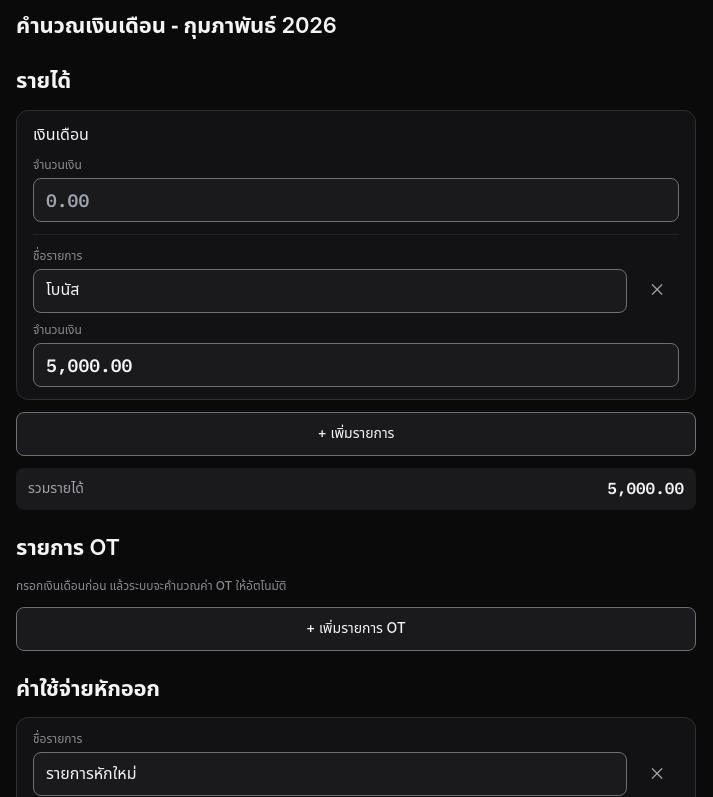
Test: SalaryCalculator — รายการ OT (Increment 3) › AC-OT-02/03: identical hours in February (28 days) give 1,875 — fixed 30-day divisor, same as any other month
Type "30000" into the field named "จำนวนเงินเงินเดือน" at (356, 200), box [33,178,679,222]
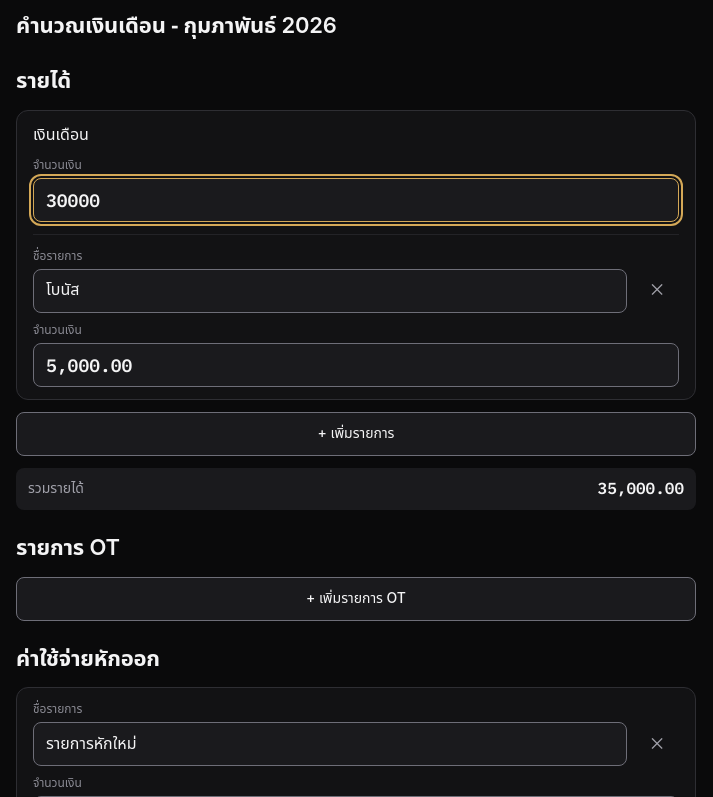
Click the button "+ เพิ่มรายการ OT" at (356, 599), box [16,577,696,621]
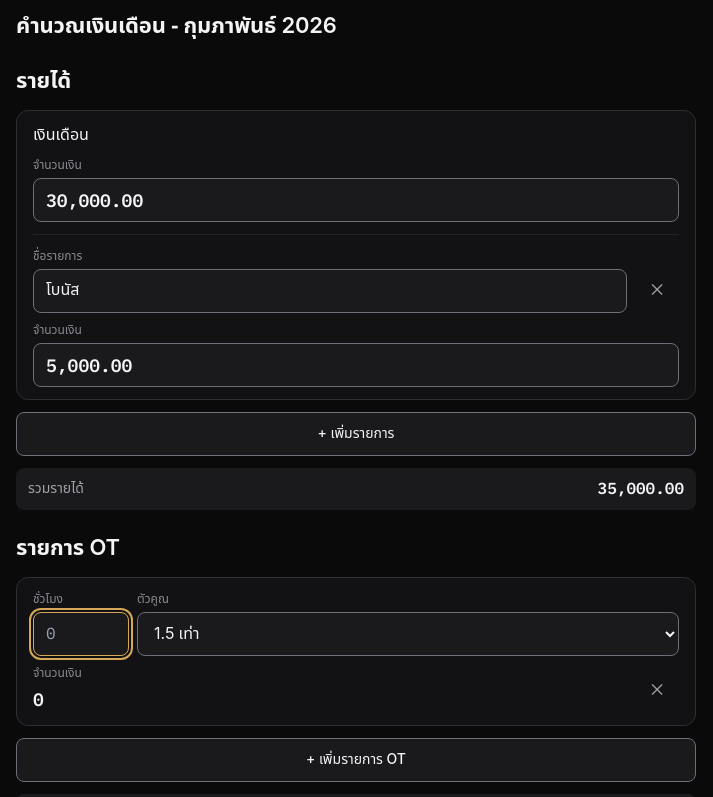
Type "10" into the field named "จำนวนชั่วโมง OT" at (81, 634), box [33,612,129,656]
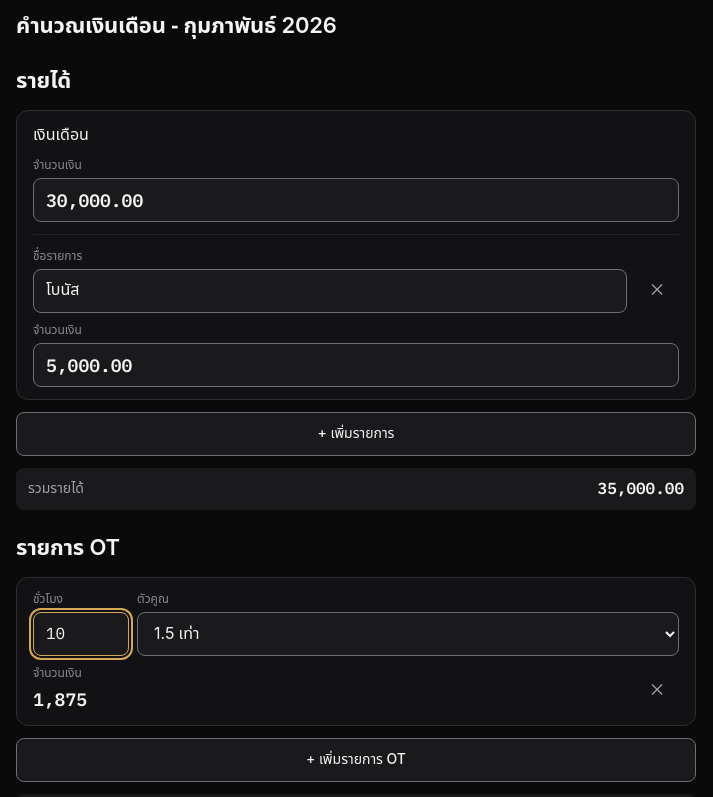
Result: the text "1,875" below "ชั่วโมง" is shown at [33,688,87,711]
